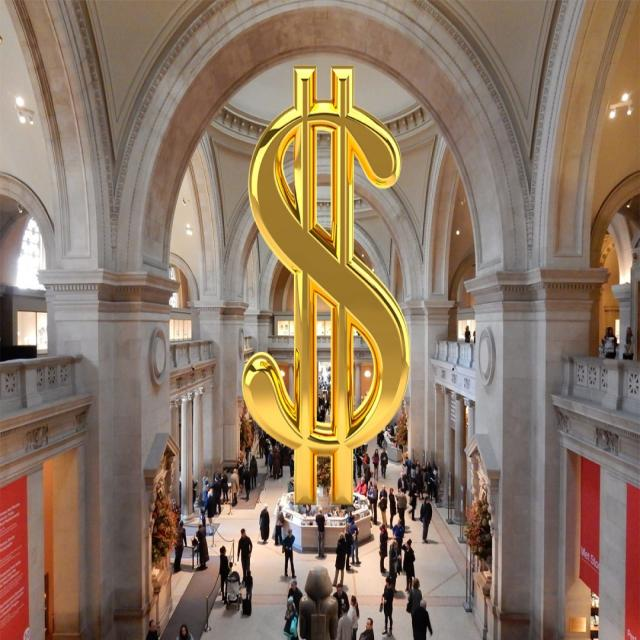body: (406, 576, 424, 639), (332, 530, 348, 590), (316, 360, 331, 424), (411, 597, 433, 639), (280, 526, 297, 580), (236, 527, 253, 580), (380, 574, 394, 638), (401, 537, 416, 596), (172, 520, 188, 574), (218, 544, 232, 605), (388, 539, 402, 594), (282, 595, 299, 639), (348, 513, 362, 565), (334, 603, 354, 639), (332, 583, 350, 620), (394, 486, 408, 533), (314, 505, 326, 558), (287, 579, 304, 616), (196, 520, 208, 570), (421, 494, 433, 544), (343, 521, 354, 572), (378, 522, 389, 573), (602, 326, 618, 360), (316, 456, 332, 490), (392, 519, 406, 557), (258, 502, 270, 546), (349, 594, 360, 639), (601, 326, 616, 359), (210, 474, 222, 515), (430, 463, 442, 503), (229, 468, 241, 507), (280, 443, 293, 479), (622, 326, 635, 360), (274, 503, 284, 546), (408, 475, 417, 522), (205, 489, 214, 534), (379, 483, 388, 528), (249, 453, 259, 493), (369, 482, 378, 524), (388, 488, 397, 530), (359, 616, 375, 639), (378, 446, 388, 481), (175, 622, 194, 640), (366, 479, 374, 521), (424, 456, 436, 484), (425, 464, 434, 501), (371, 446, 380, 482), (244, 569, 253, 604), (401, 455, 416, 476), (144, 618, 158, 640), (272, 446, 281, 480), (264, 432, 280, 451), (353, 476, 368, 496), (361, 449, 371, 479), (202, 470, 210, 506), (221, 470, 229, 505), (416, 466, 424, 501), (236, 455, 244, 490), (355, 447, 364, 477), (463, 324, 472, 354), (248, 418, 257, 448), (243, 464, 250, 502), (257, 428, 265, 460), (397, 470, 407, 494), (192, 475, 198, 514), (363, 460, 372, 485), (267, 447, 274, 479), (263, 439, 270, 466), (376, 429, 385, 448), (393, 588, 406, 601), (333, 504, 345, 518), (352, 442, 368, 452), (199, 506, 206, 528), (379, 632, 400, 639), (305, 502, 315, 516), (288, 491, 295, 510), (228, 560, 234, 578), (352, 451, 356, 475), (287, 478, 294, 491), (388, 424, 394, 438), (393, 422, 399, 436), (352, 474, 358, 488), (245, 446, 249, 465), (416, 458, 424, 467), (472, 327, 476, 345)
